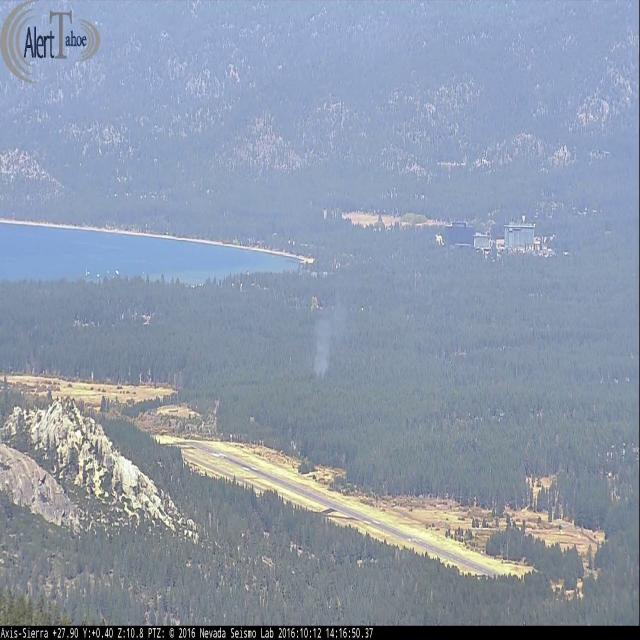smoke: (312, 299, 352, 382)
